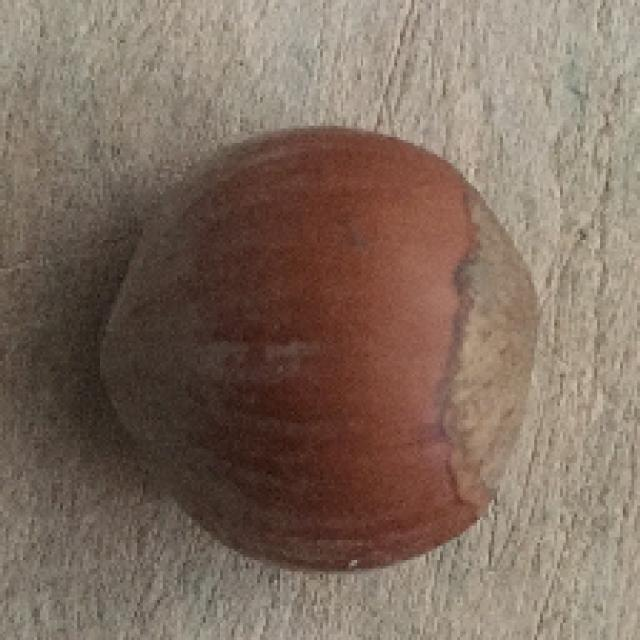qualityHazelnut: (83, 124, 554, 580)
